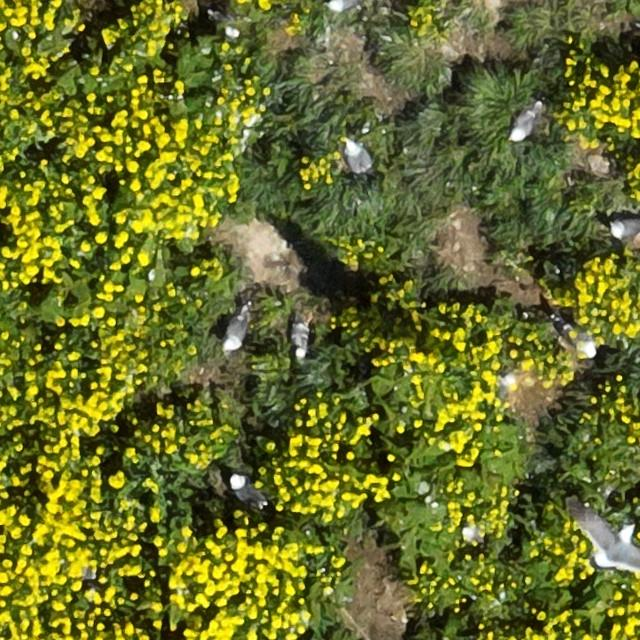F: (580, 516, 640, 573)
umineko: (558, 326, 598, 356), (344, 137, 372, 179), (230, 474, 260, 504), (511, 106, 537, 140), (224, 313, 247, 349), (292, 322, 310, 357), (610, 219, 640, 239), (329, 0, 358, 10)
